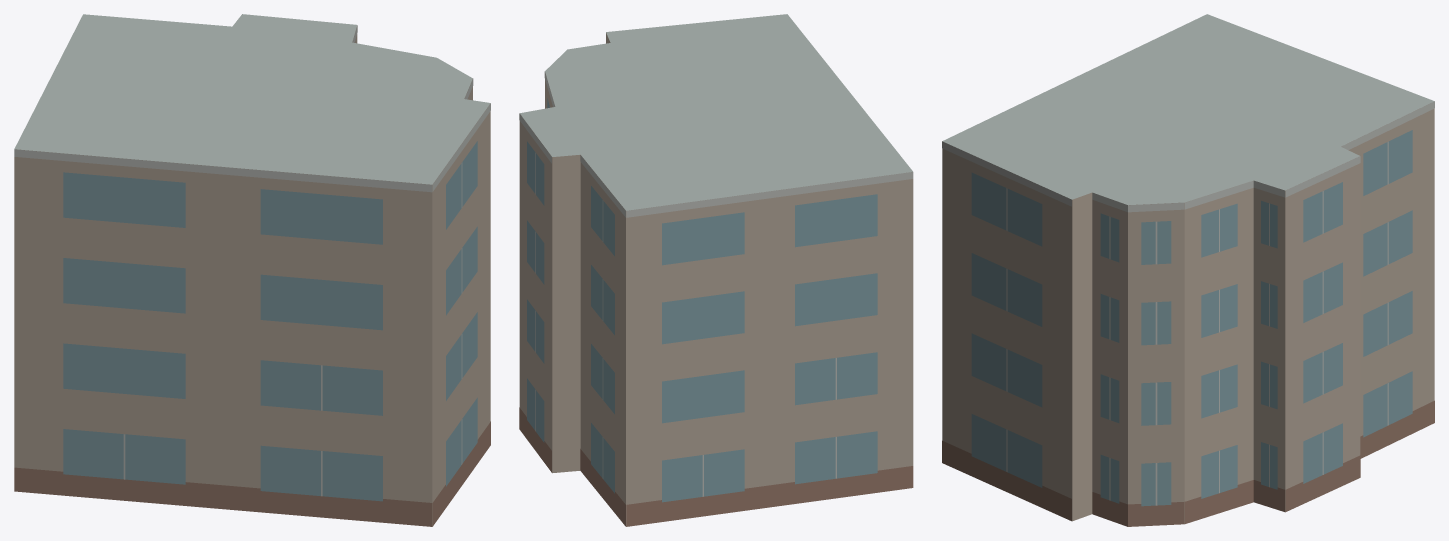
File: survey-upis-32927027.glb
3 views of the same model, side by side, from view 1: azimuth 30°, elevation 25°; view 2: azimuth 150°, elevation 25°; view 3: azimuth 270°, elevation 25° (orthographic). The views are drawn at different scales.
Visible parts, largest first — view 1: survey-upis-32927027.tmp; view 2: survey-upis-32927027.tmp; view 3: survey-upis-32927027.tmp.
Part boxes in pixels (bbox=[...]): survey-upis-32927027.tmp: bbox=[14, 14, 490, 526]; survey-upis-32927027.tmp: bbox=[519, 14, 913, 526]; survey-upis-32927027.tmp: bbox=[942, 14, 1434, 526].
Bounding box in the file's own units: 13.99 × 10.97 × 15.23.
